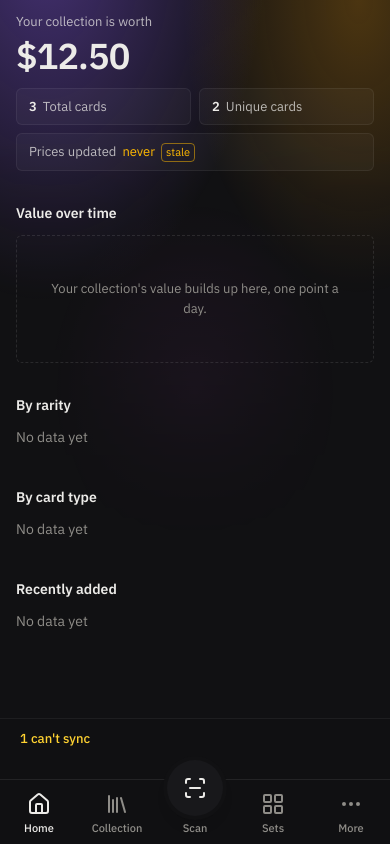
it: phone app › status line follows the sync state
Click the button "Home". click: coordinates (39, 812)
box: [0,780,78,843]
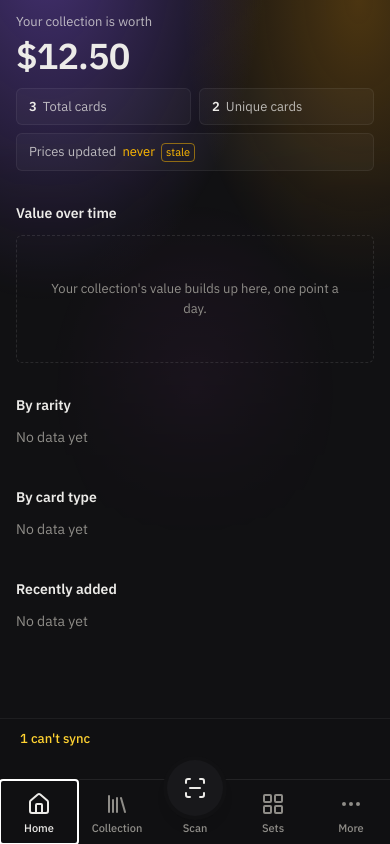
Click the button "1 can't sync". click: coordinates (55, 739)
box: [16,721,94,757]
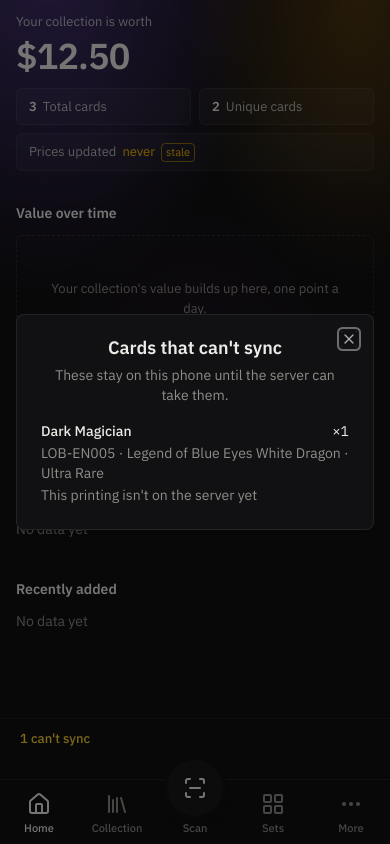
expect the text "Dark Magician" is shown: met, box [41,421,132,441]
expect the text "This printing isn't on the server yet" is shown: met, box [41,486,257,504]
